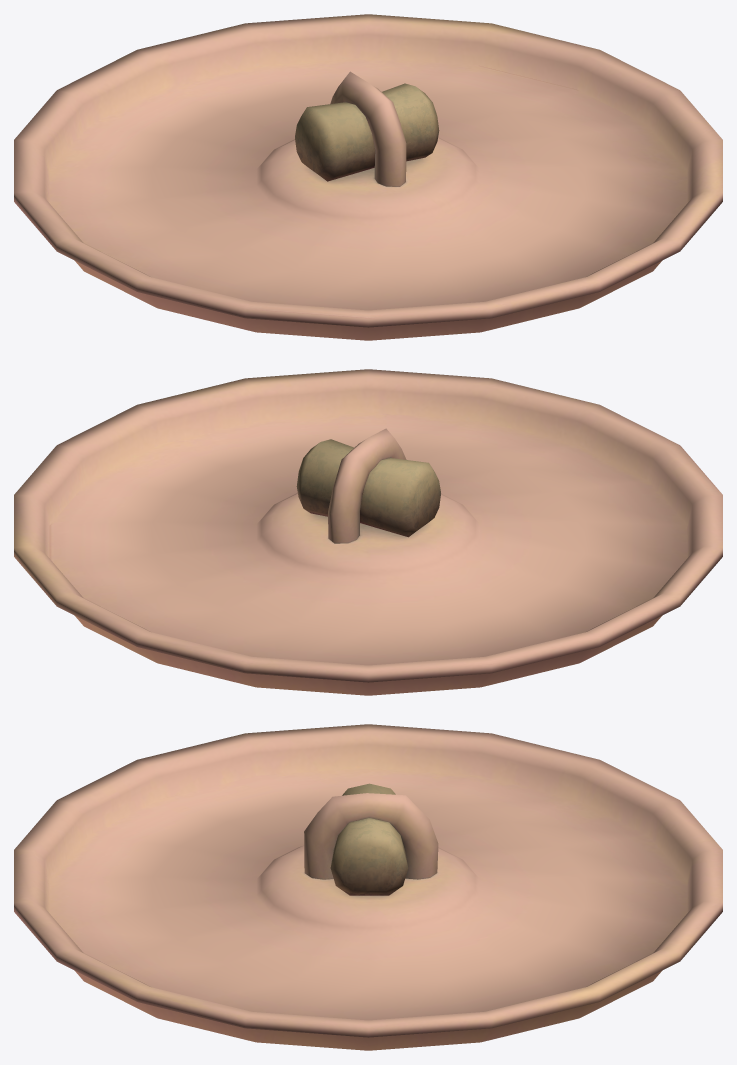
File: lid.obj
3 views of the same model, one above another, from view 1: azimuth 30°, elevation 25°; view 2: azimuth 150°, elevation 25°; view 3: azimuth 270°, elevation 25° (orthographic).
Parts seen in each view (by area): view 1: obj2, obj3; view 2: obj2, obj3; view 3: obj2, obj3.
Part boxes in pixels (x1,y1,x2,y2): obj2: (14,14,722,340); obj3: (295,83,439,181); obj2: (14,369,722,695); obj3: (296,439,440,537); obj2: (14,724,722,1050); obj3: (330,783,408,895).
Size of the model in its own units: 17.19 by 3.13 by 16.93.
Materials: 2 (2 with a texture image).
